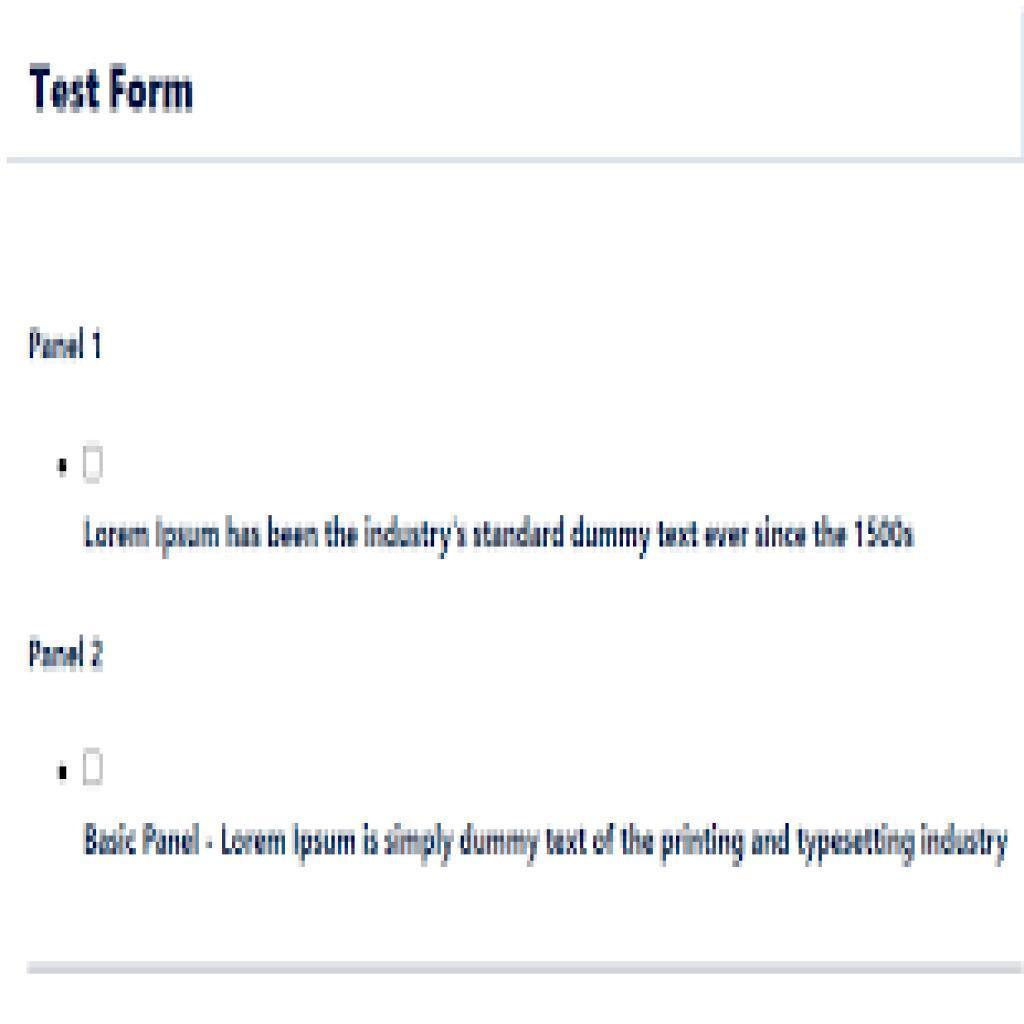checkbox: (81, 741, 109, 798), (78, 438, 111, 486)
